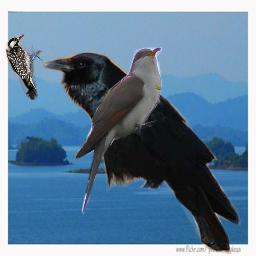Crow: (42, 52, 241, 254)
Cuckoo: (74, 47, 162, 216)
Woodpecker: (3, 32, 47, 100)
